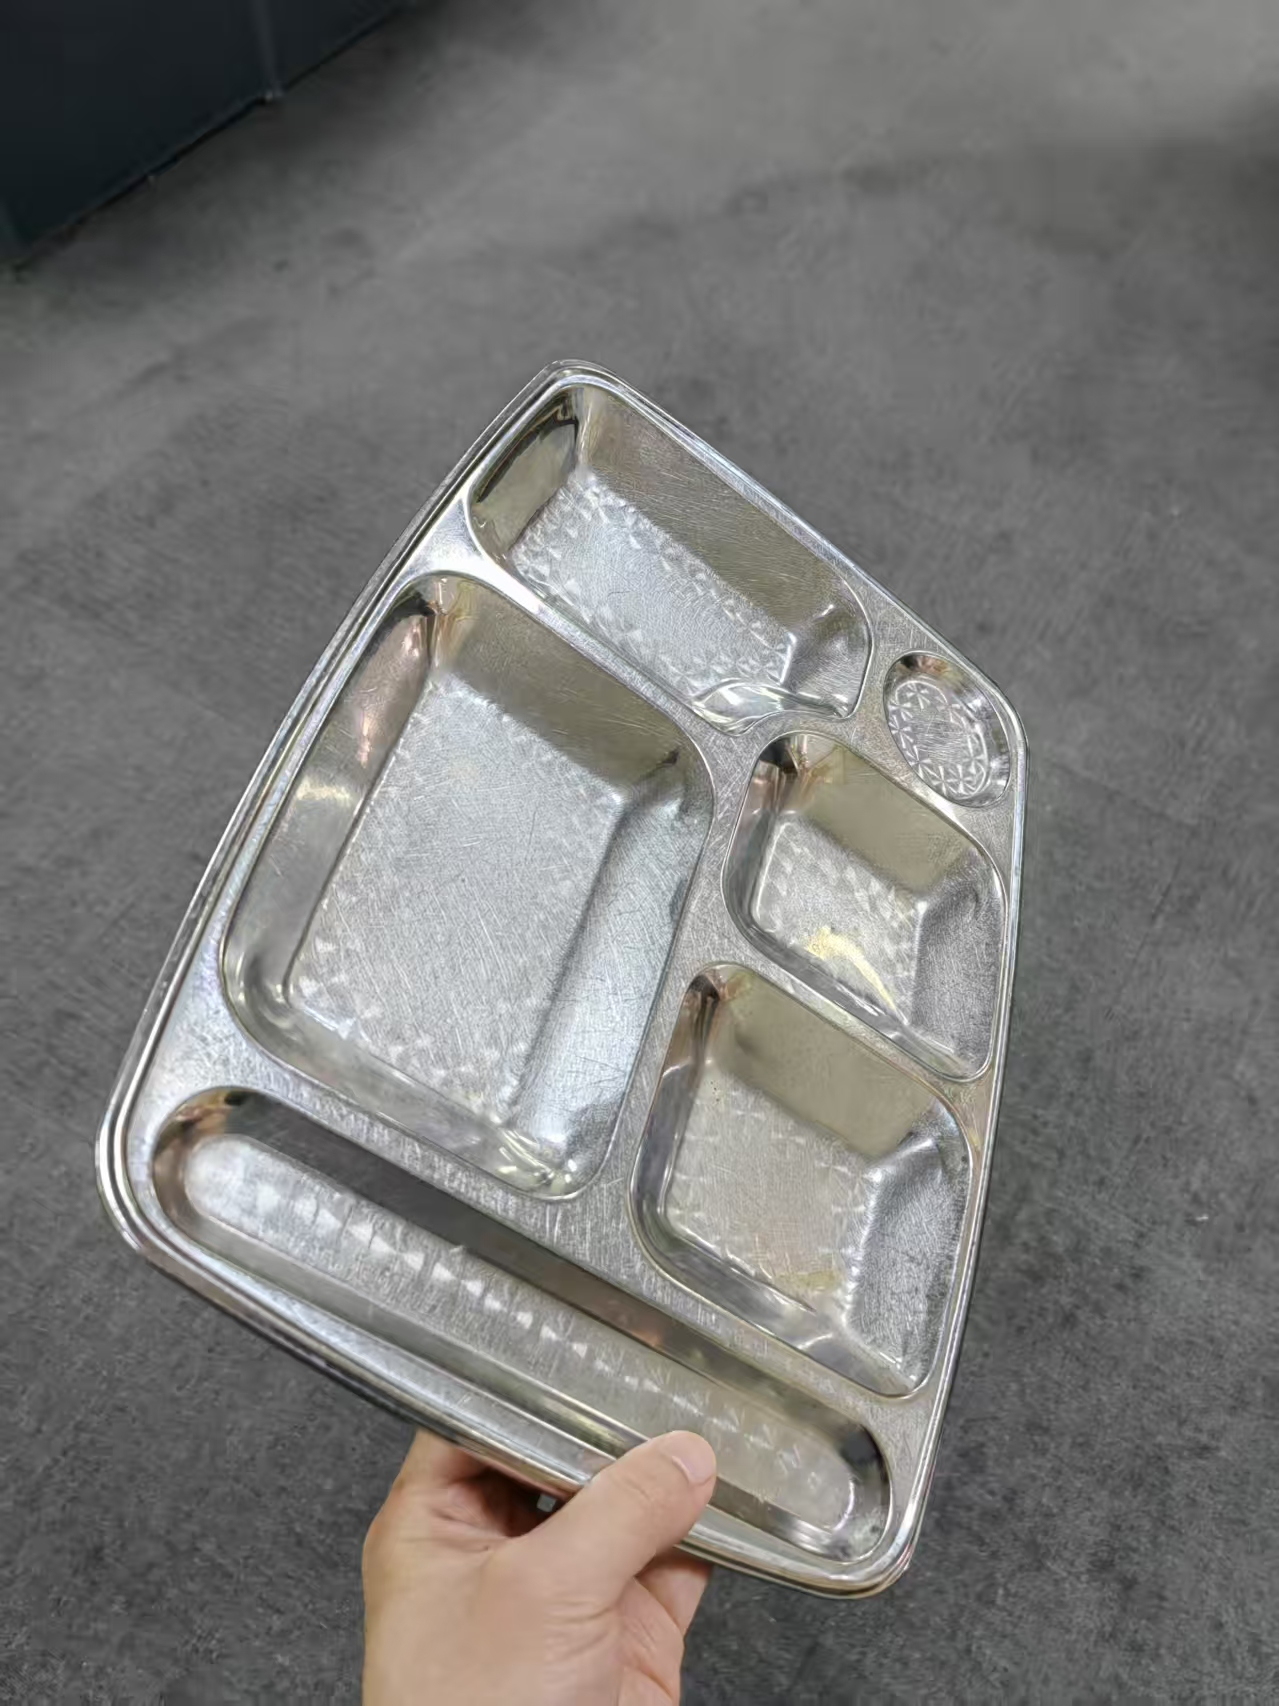plate: (93, 354, 1028, 1600)
